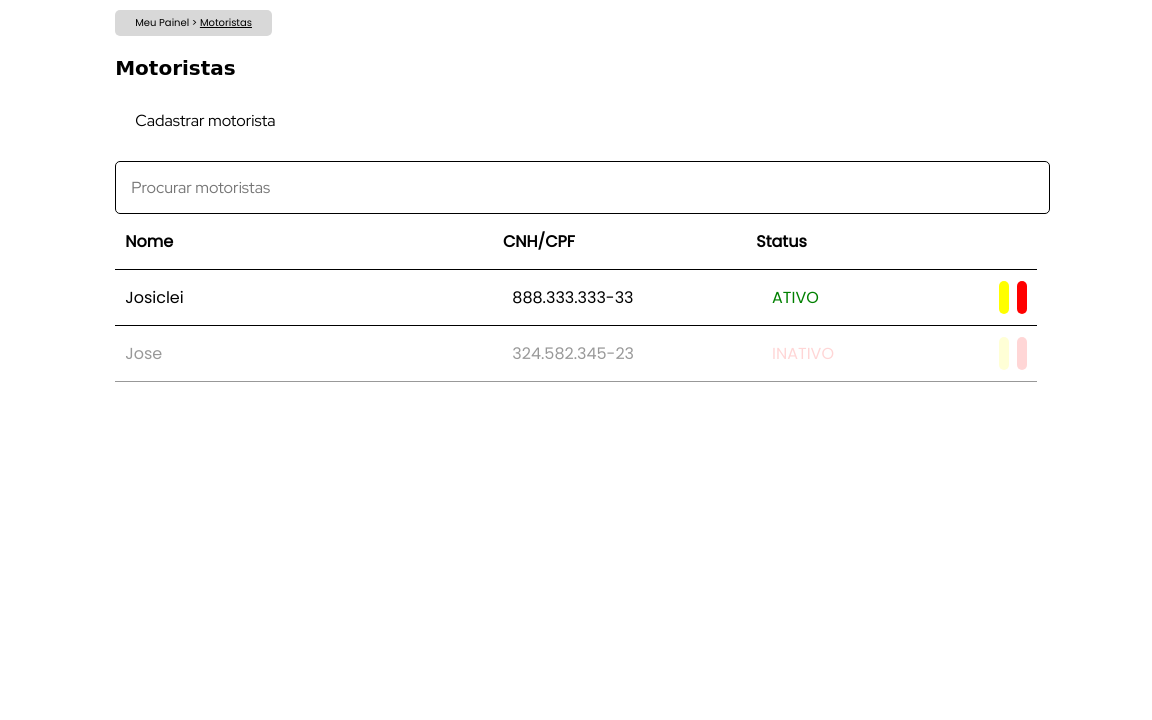
it: Drivers Page › should open EditDriverModal when edit button is clicked
The width and height of the screenshot is (1152, 720).
What coordinates should you click on to do the following:
click the 1st button titled "Editar Motorista"
I would click on:
 (1004, 298)
Its box is [999,285,1009,310].
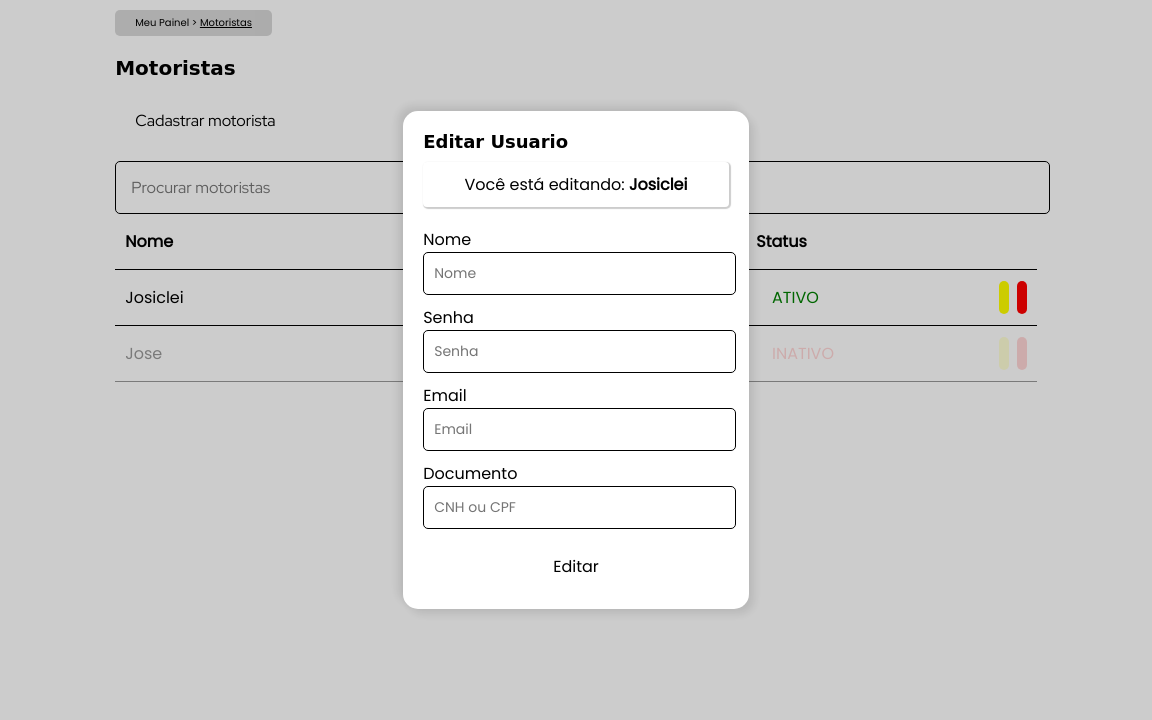
Check: the heading "Editar Usuario" is shown, box [423,131,568,152]
